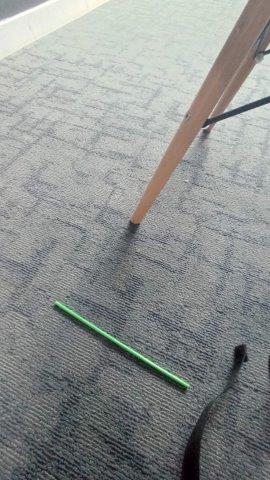sedotan: (56, 301, 189, 389)
